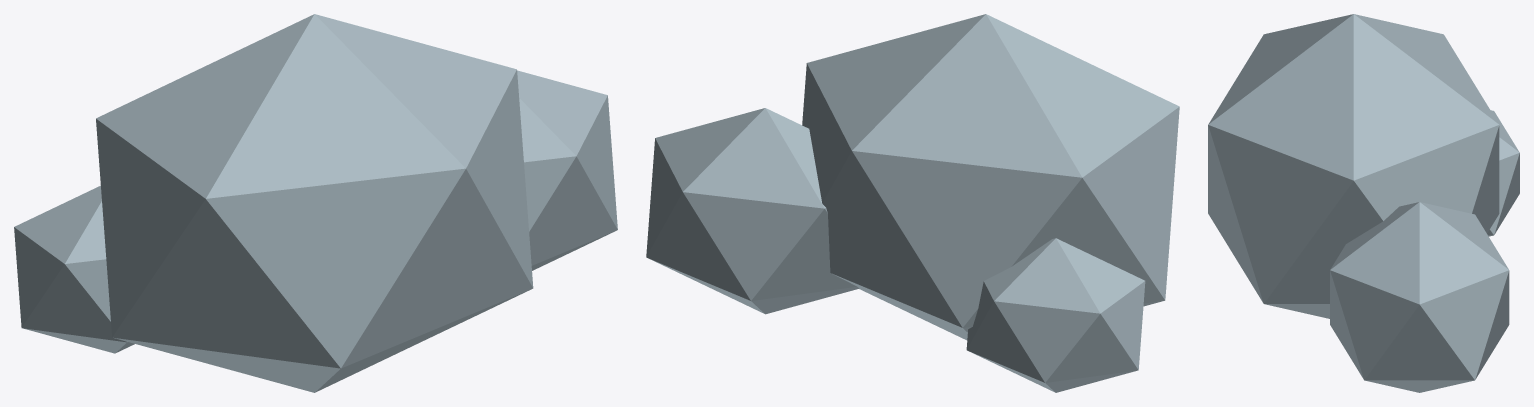
Rendered from rock_cluster.glb.
3 renders of one model, left to right at view 1: azimuth 30°, elevation 25°; view 2: azimuth 150°, elevation 25°; view 3: azimuth 270°, elevation 25°, orthographic. The views are drawn at different scales.
Visible parts, largest first — view 1: rock_cluster; view 2: rock_cluster; view 3: rock_cluster.
Boxes of the visible parts, bbox=[...] form: rock_cluster: bbox=[14, 14, 617, 392]; rock_cluster: bbox=[646, 14, 1179, 392]; rock_cluster: bbox=[1208, 14, 1519, 392].
Size of the model in its own units: 1.63 by 1.04 by 0.9465.
